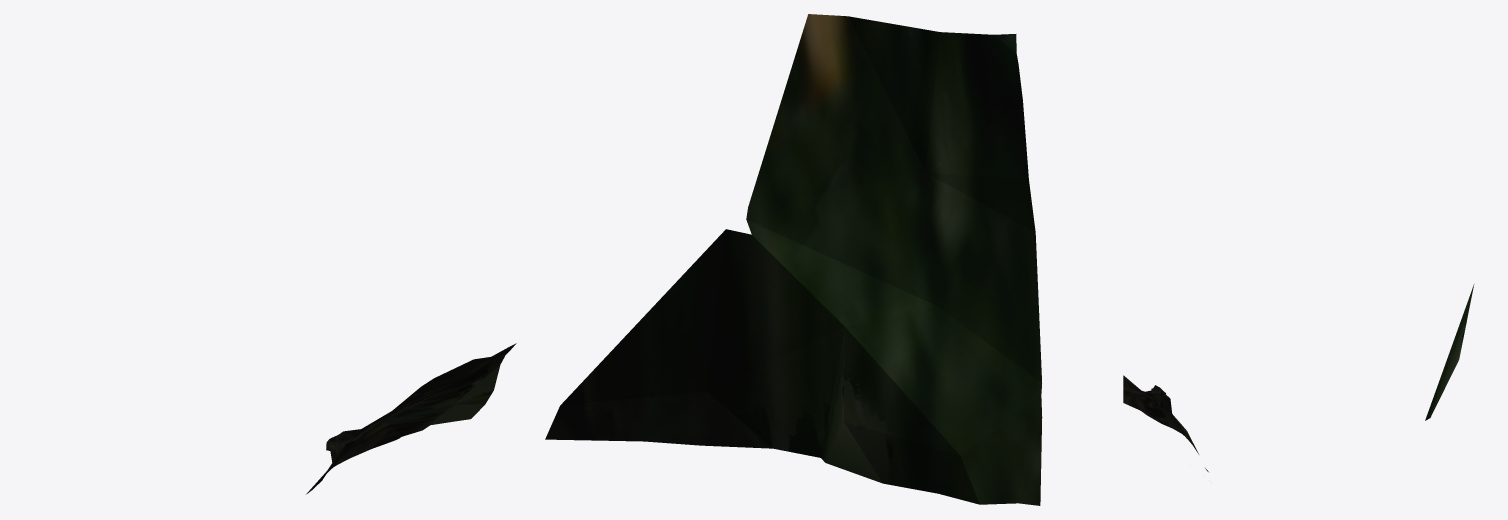
3 renders of one model, left to right at view 1: azimuth 30°, elevation 25°; view 2: azimuth 150°, elevation 25°; view 3: azimuth 270°, elevation 25°, orthographic. The views are drawn at different scales.
Size of the model in its own units: 0.8373 by 0.8373 by 0.8373.
2 materials, 2 textured.
